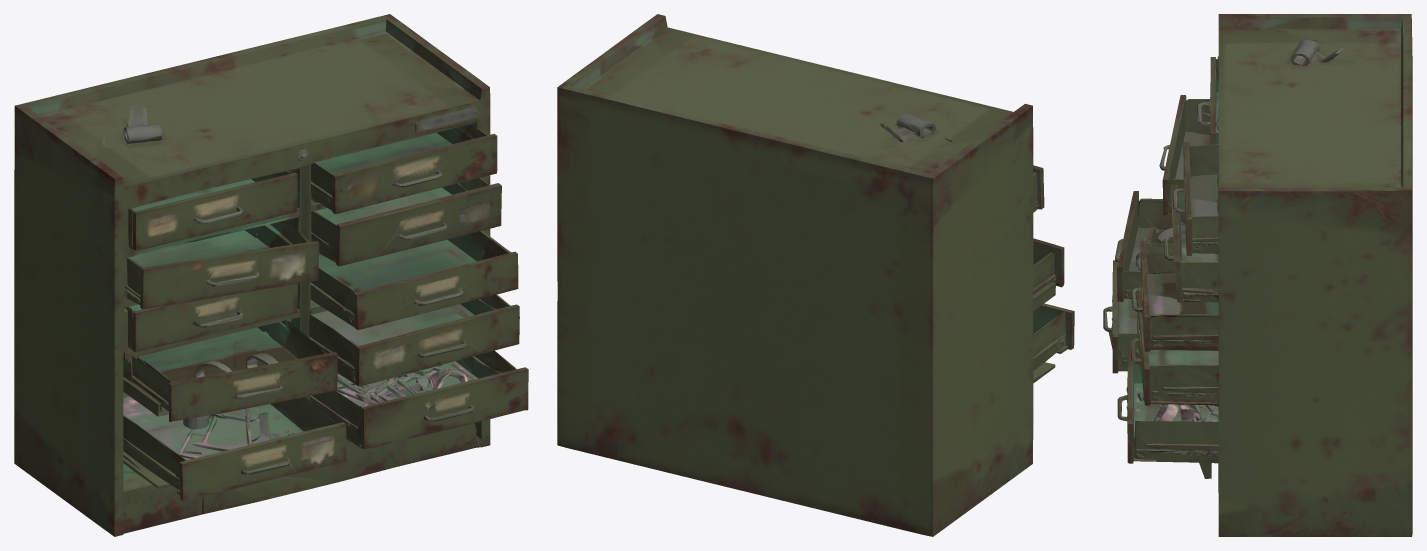
The model's file is tool_cabinet.glb.
The picture shows the model from 3 angles, left to right: view 1: azimuth 30°, elevation 25°; view 2: azimuth 150°, elevation 25°; view 3: azimuth 270°, elevation 25°; orthographic projection. The views are drawn at different scales.
Parts seen in each view (by area): view 1: output_unwrapped; view 2: output_unwrapped; view 3: output_unwrapped.
Boxes of the visible parts, bbox=[...] form: output_unwrapped: bbox=[14, 14, 528, 536]; output_unwrapped: bbox=[557, 14, 1074, 536]; output_unwrapped: bbox=[1103, 14, 1412, 536].
Bounding box in the file's own units: 1.9 × 1.76 × 1.4.
Materials: 1 (1 with a texture image).
